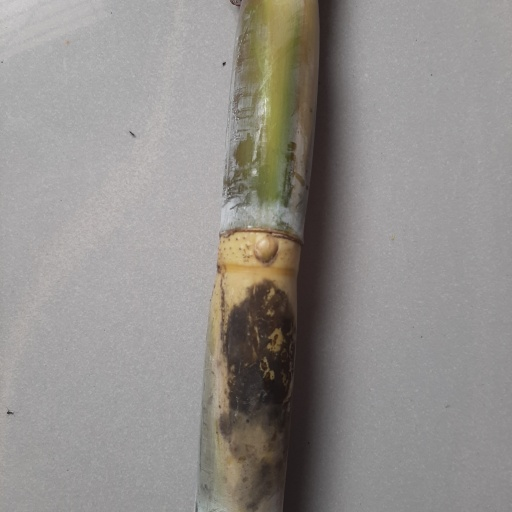Bud: (253, 232, 280, 264)
